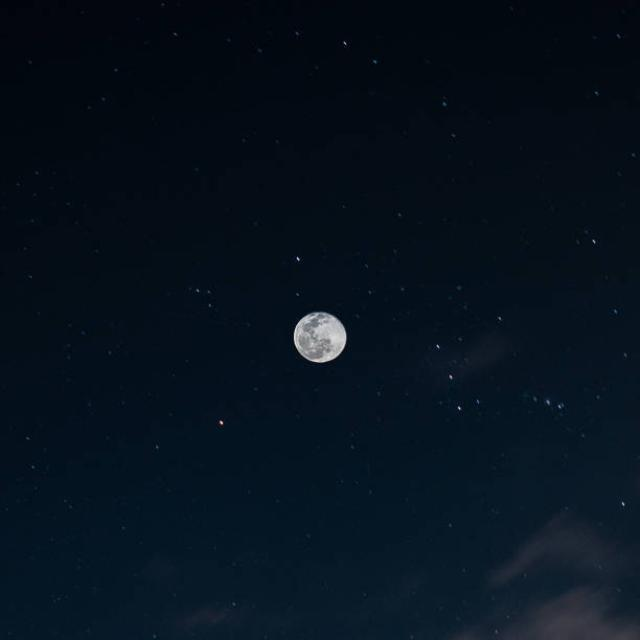moon: (292, 312, 343, 362)
